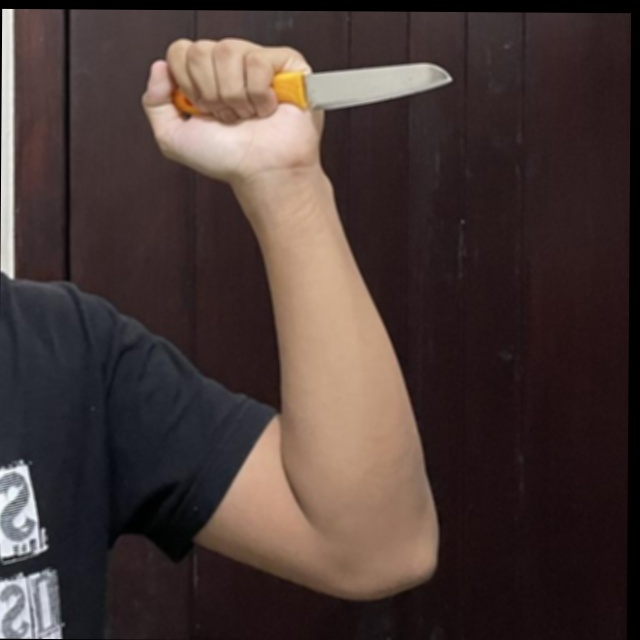Sharp-Object: (170, 57, 456, 121)
